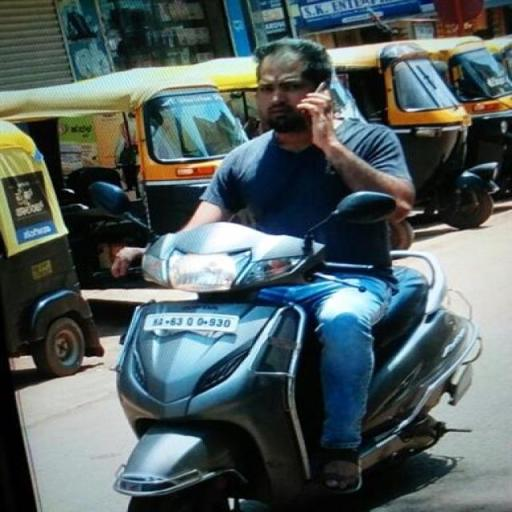using mobile: (300, 75, 346, 129)
